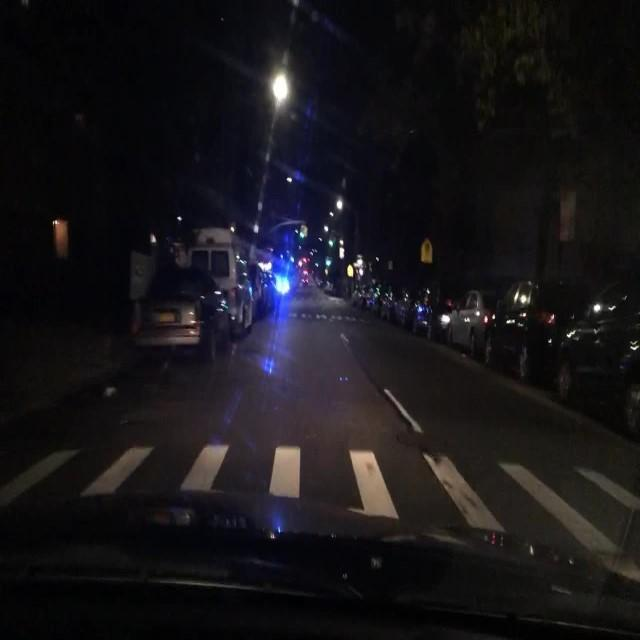normal: (99, 197, 306, 385)
